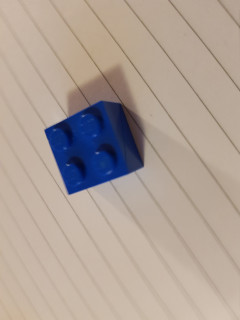2x2 blue: (41, 100, 145, 196)
